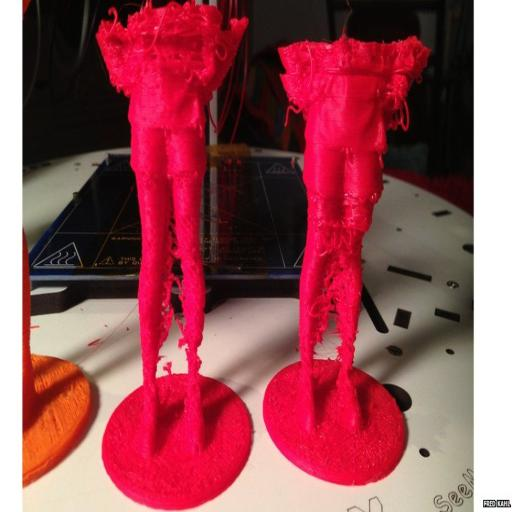spaghetti: (94, 0, 246, 106), (276, 33, 430, 116), (313, 240, 355, 360)
